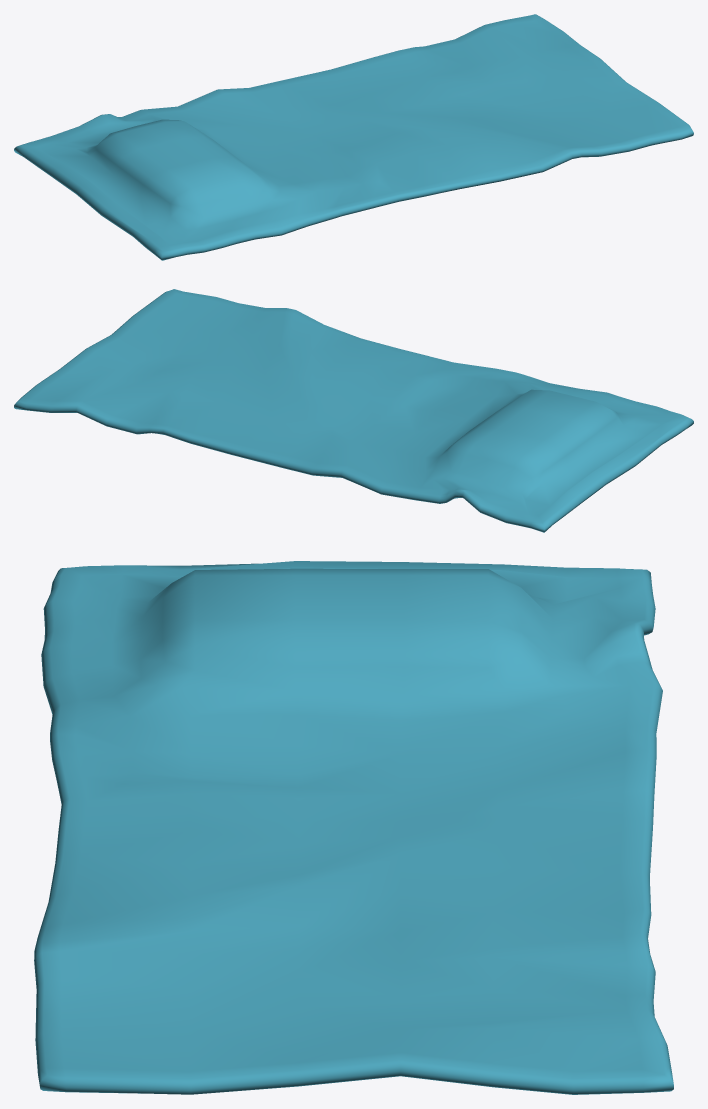
File: beach-towel.glb
3 views of the same model, one above another, from view 1: azimuth 30°, elevation 25°; view 2: azimuth 150°, elevation 25°; view 3: azimuth 270°, elevation 25° (orthographic). The views are drawn at different scales.
Parts seen in each view (by area): view 1: FtrBeachtowel_node1; view 2: FtrBeachtowel_node1; view 3: FtrBeachtowel_node1.
Part boxes in pixels (bbox=[...]): FtrBeachtowel_node1: bbox=[14, 14, 693, 260]; FtrBeachtowel_node1: bbox=[14, 289, 693, 532]; FtrBeachtowel_node1: bbox=[34, 561, 673, 1094].
Size of the model in its own units: 1.81 by 0.109 by 0.9439.
